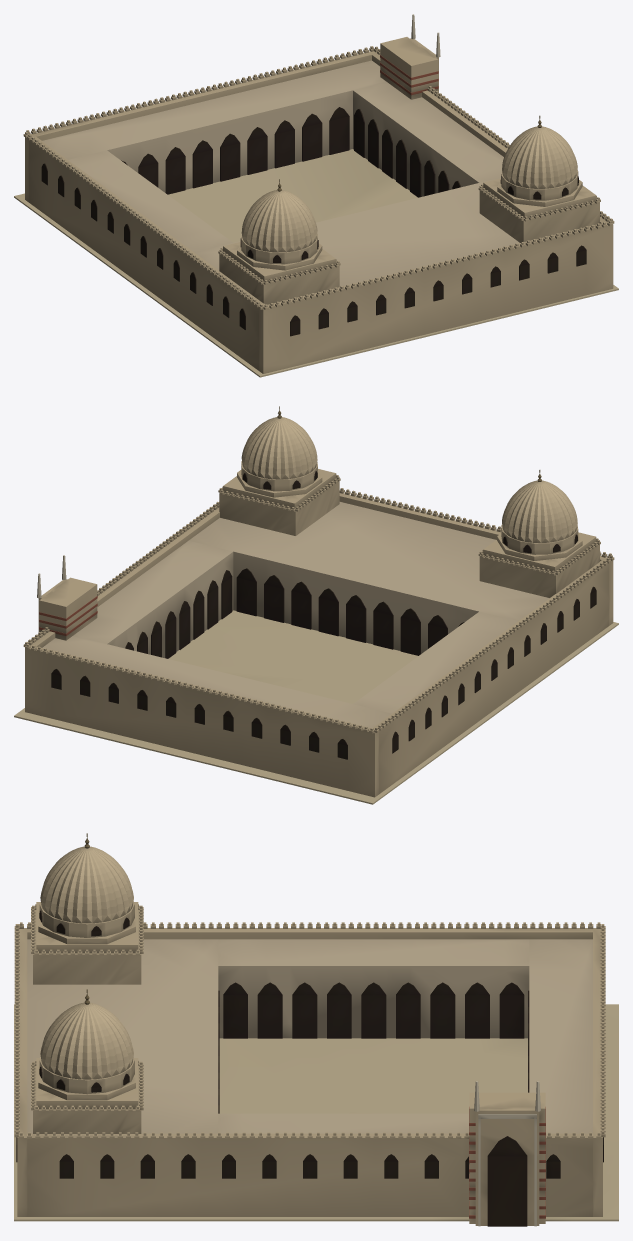
Rendered from al-muayyad.glb.
3 views of the same model, one above another, from view 1: azimuth 30°, elevation 25°; view 2: azimuth 150°, elevation 25°; view 3: azimuth 270°, elevation 25° (orthographic). The views are drawn at different scales.
Visible parts, largest first — view 1: p0_walls, p1_arcades, p2_domes and portal; view 2: p0_walls, p1_arcades, p2_domes and portal; view 3: p0_walls, p1_arcades, p2_domes and portal.
Part boxes in pixels (x1,y1,x2,y2): p0_walls: (14, 46, 618, 377); p1_arcades: (42, 60, 519, 286); p2_domes and portal: (218, 14, 600, 304); p0_walls: (14, 488, 618, 804); p1_arcades: (42, 502, 549, 727); p2_domes and portal: (37, 406, 600, 640); p0_walls: (14, 922, 618, 1221); p1_arcades: (27, 939, 592, 1133); p2_domes and portal: (31, 833, 545, 1226).
Bounding box in the file's own units: 82.15 × 35.03 × 95.
